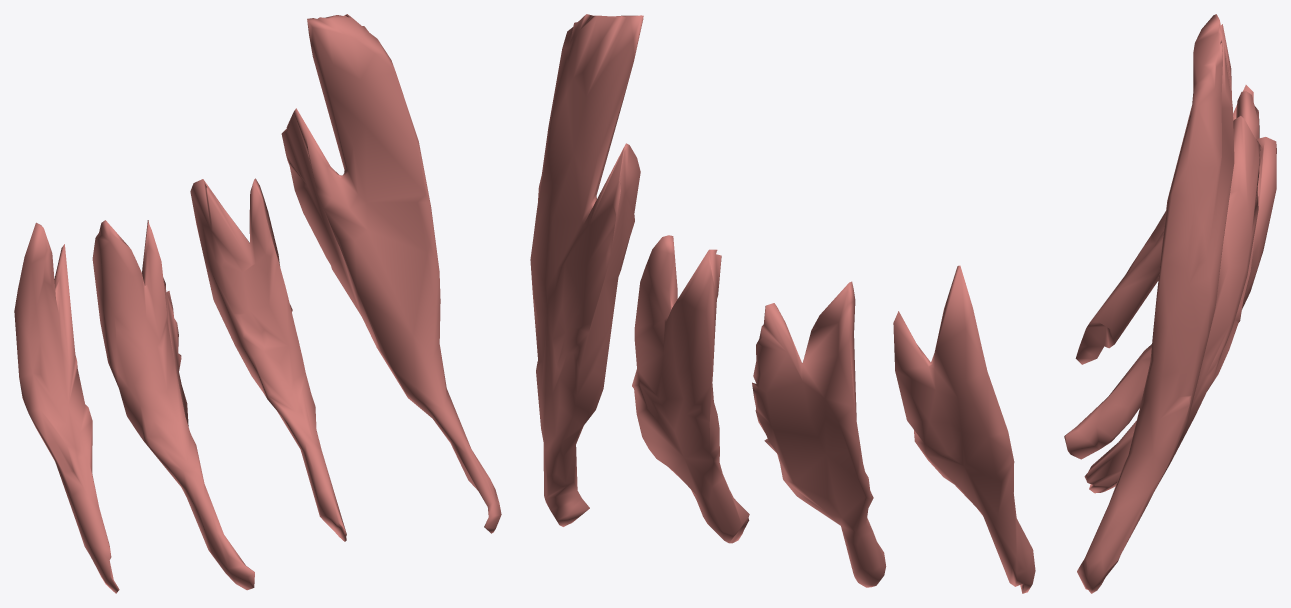
3 renders of one model, left to right at view 1: azimuth 30°, elevation 25°; view 2: azimuth 150°, elevation 25°; view 3: azimuth 270°, elevation 25°, orthographic. The views are drawn at different scales.
Parts seen in each view (by area): view 1: ZA_744f36fb8914c184; view 2: ZA_744f36fb8914c184; view 3: ZA_744f36fb8914c184.
Boxes of the visible parts, x1,y1,x2,y2 form: ZA_744f36fb8914c184: [14, 14, 501, 593]; ZA_744f36fb8914c184: [530, 14, 1035, 593]; ZA_744f36fb8914c184: [1064, 14, 1276, 593].
Bounding box in the file's own units: 0.064 × 0.0711 × 0.0265.
